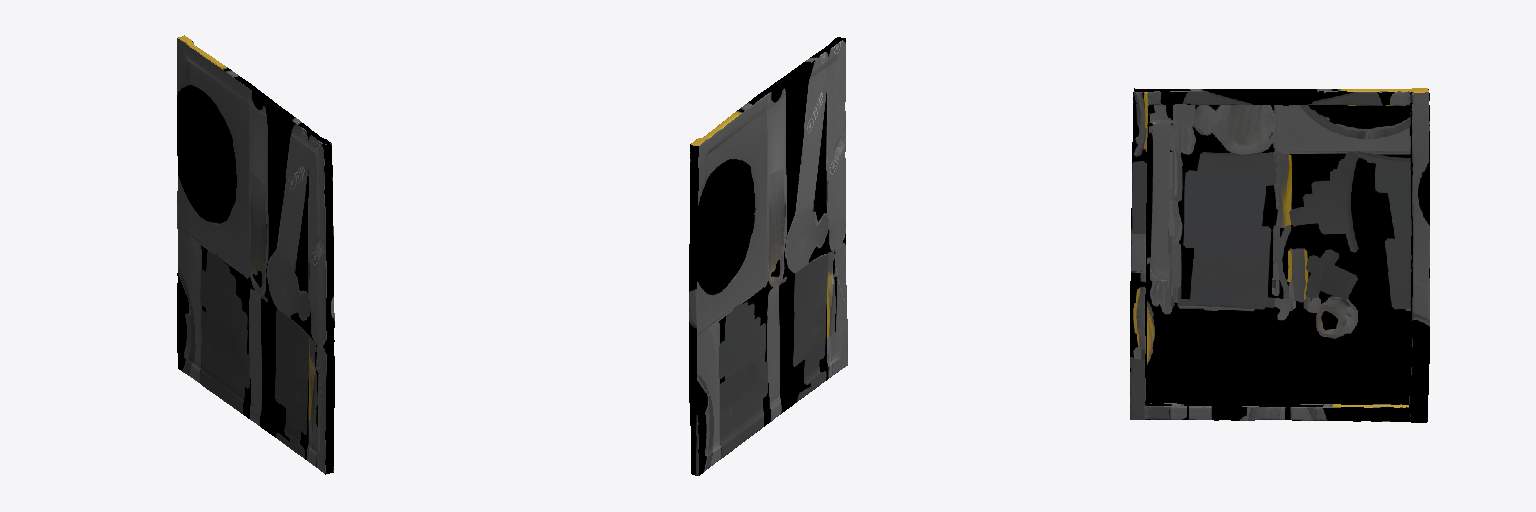
The picture shows the model from 3 angles: view 1: azimuth 30°, elevation 25°; view 2: azimuth 150°, elevation 25°; view 3: azimuth 270°, elevation 25°; orthographic projection.
Visible parts, largest first — view 1: tripo_node_20e0a0e3-1f48-40ea-a0f0-94ed467583b2; view 2: tripo_node_20e0a0e3-1f48-40ea-a0f0-94ed467583b2; view 3: tripo_node_20e0a0e3-1f48-40ea-a0f0-94ed467583b2.
Boxes of the visible parts, x1=… form: tripo_node_20e0a0e3-1f48-40ea-a0f0-94ed467583b2: x1=177, y1=35, x2=334, y2=474; tripo_node_20e0a0e3-1f48-40ea-a0f0-94ed467583b2: x1=689, y1=37, x2=847, y2=475; tripo_node_20e0a0e3-1f48-40ea-a0f0-94ed467583b2: x1=1130, y1=88, x2=1429, y2=422.
Bounding box in the file's own units: 0.0338 × 0.9998 × 0.8207.
1 materials, 1 textured.